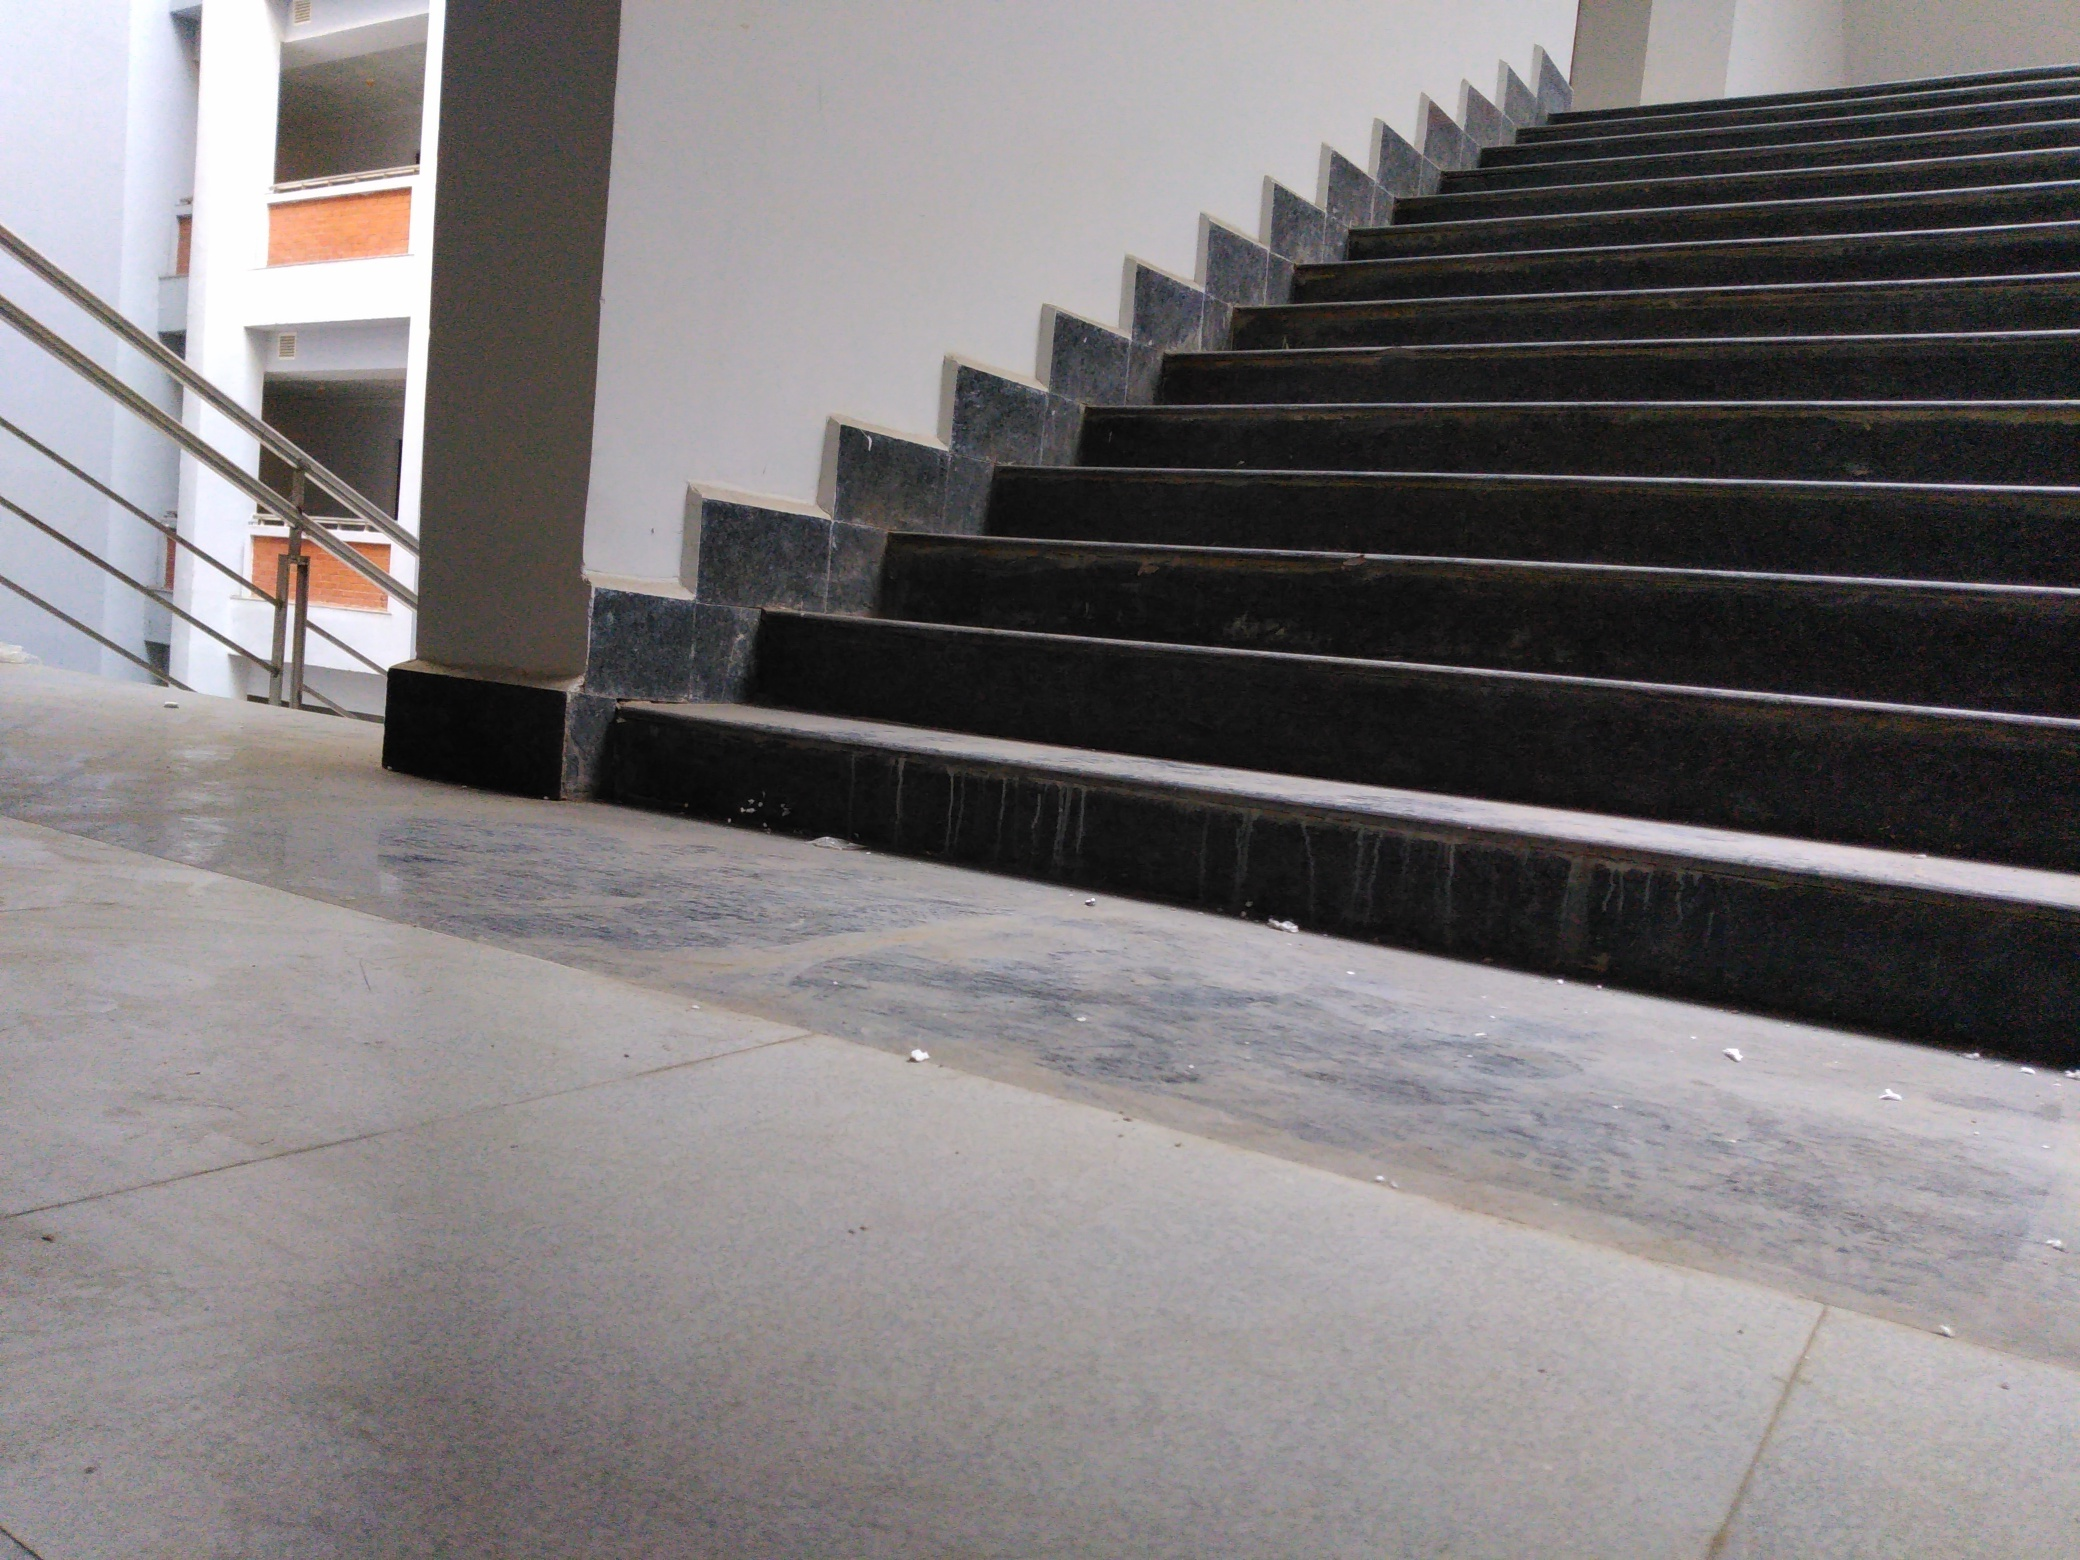stairs_up: (603, 56, 2077, 923)
